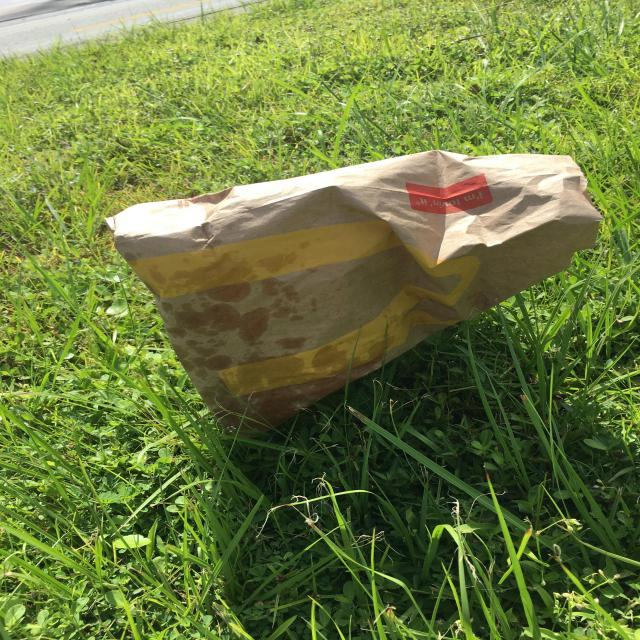litter: (200, 27, 586, 402)
